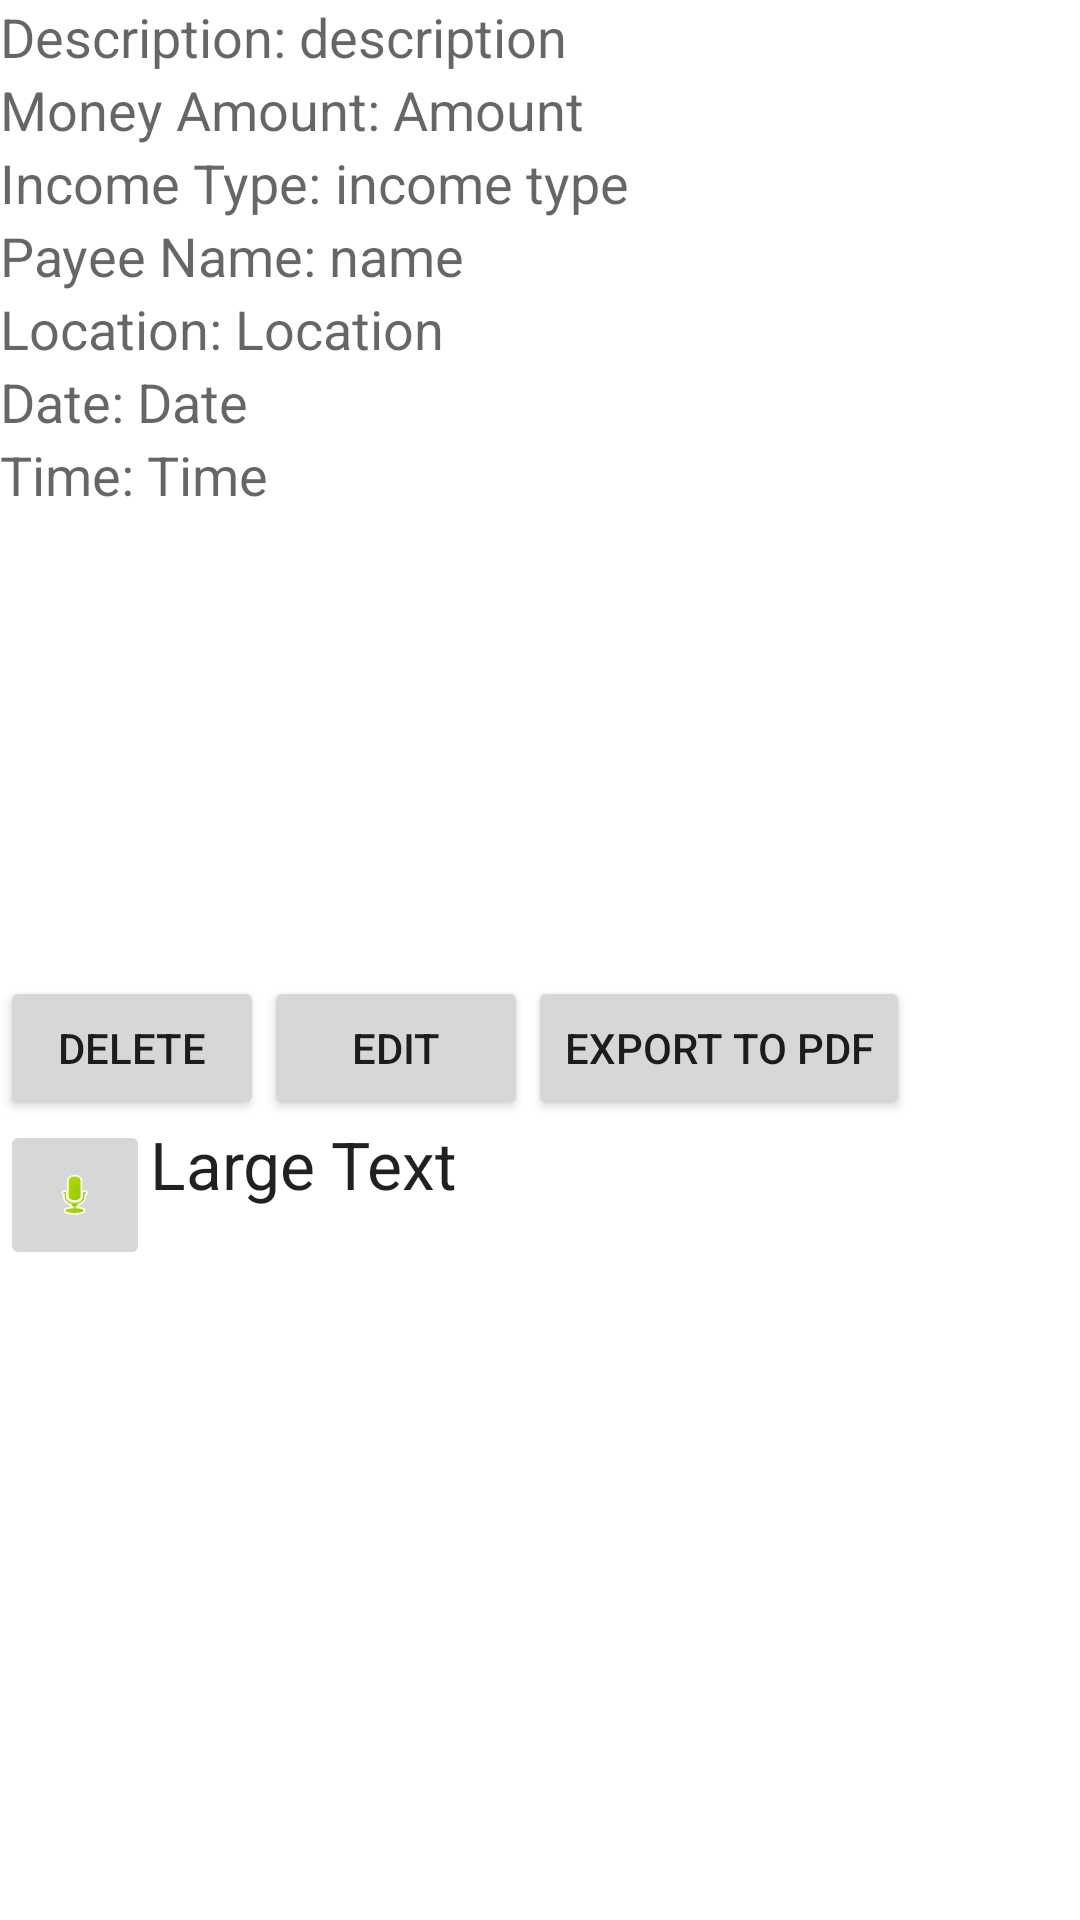

Point at icon controls on the screen. Image size 1080 x 1920, points as point (x, y).
presence audio online: point (75, 1195)
